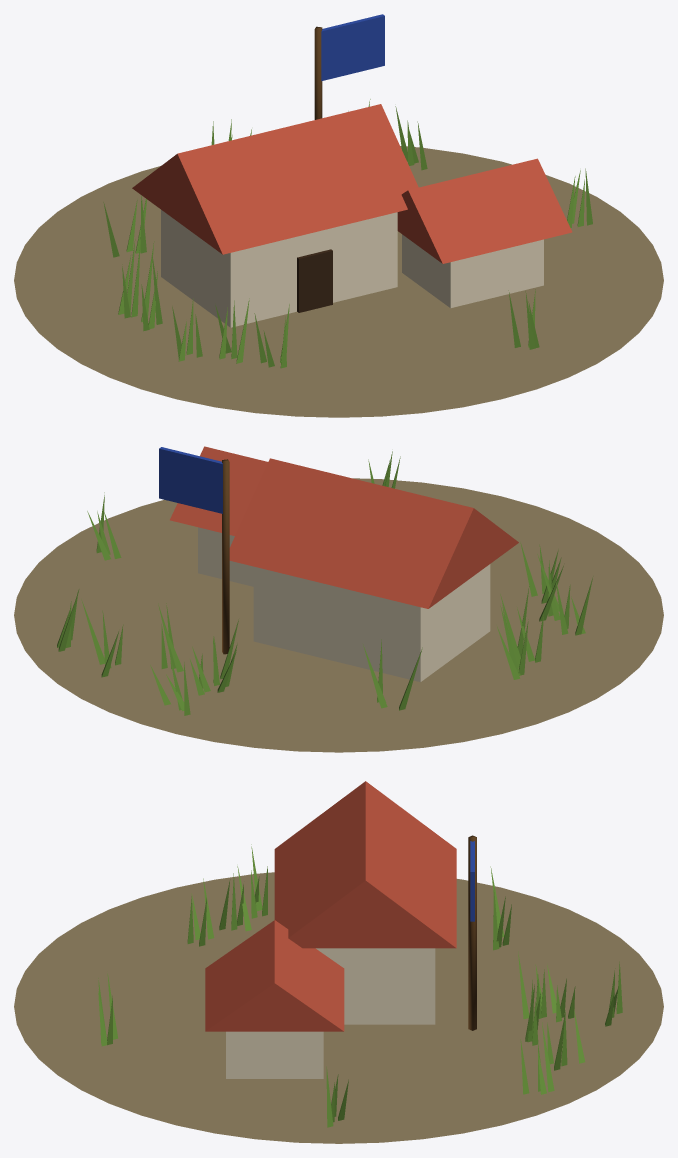
The model's file is improvement_generic.fbx.
3 views of the same model, one above another, from view 1: azimuth 30°, elevation 25°; view 2: azimuth 150°, elevation 25°; view 3: azimuth 270°, elevation 25° (orthographic).
Parts seen in each view (by area): view 1: improvement_generic_gpatch#8a7a5ar.003_00, improvement_generic_tiles.004_03, improvement_generic_plaster.002_02, improvement_generic_leaf#6a9a3a.020_01, improvement_generic_flag#2a4aa8.001_06, improvement_generic_door.010_04, improvement_generic_wood#5a3c1c.004_05; view 2: improvement_generic_gpatch#8a7a5ar.003_00, improvement_generic_tiles.004_03, improvement_generic_plaster.002_02, improvement_generic_leaf#6a9a3a.020_01, improvement_generic_flag#2a4aa8.001_06, improvement_generic_wood#5a3c1c.004_05; view 3: improvement_generic_gpatch#8a7a5ar.003_00, improvement_generic_tiles.004_03, improvement_generic_plaster.002_02, improvement_generic_leaf#6a9a3a.020_01, improvement_generic_wood#5a3c1c.004_05.
Part boxes in pixels (bbox=[...]): improvement_generic_gpatch#8a7a5ar.003_00: bbox=[14, 146, 663, 417]; improvement_generic_tiles.004_03: bbox=[132, 104, 572, 263]; improvement_generic_plaster.002_02: bbox=[161, 210, 543, 327]; improvement_generic_leaf#6a9a3a.020_01: bbox=[103, 99, 592, 368]; improvement_generic_flag#2a4aa8.001_06: bbox=[321, 14, 384, 81]; improvement_generic_door.010_04: bbox=[297, 249, 332, 312]; improvement_generic_wood#5a3c1c.004_05: bbox=[314, 26, 322, 119]; improvement_generic_gpatch#8a7a5ar.003_00: bbox=[14, 478, 663, 752]; improvement_generic_tiles.004_03: bbox=[170, 446, 518, 608]; improvement_generic_plaster.002_02: bbox=[198, 527, 490, 681]; improvement_generic_leaf#6a9a3a.020_01: bbox=[57, 451, 593, 715]; improvement_generic_flag#2a4aa8.001_06: bbox=[159, 447, 222, 513]; improvement_generic_wood#5a3c1c.004_05: bbox=[222, 459, 229, 654]; improvement_generic_gpatch#8a7a5ar.003_00: bbox=[14, 872, 663, 1143]; improvement_generic_tiles.004_03: bbox=[205, 781, 456, 1031]; improvement_generic_plaster.002_02: bbox=[226, 948, 435, 1078]; improvement_generic_leaf#6a9a3a.020_01: bbox=[98, 844, 622, 1127]; improvement_generic_wood#5a3c1c.004_05: bbox=[468, 835, 476, 1030].
Bounding box in the file's own units: 122 × 40.28 × 122.
